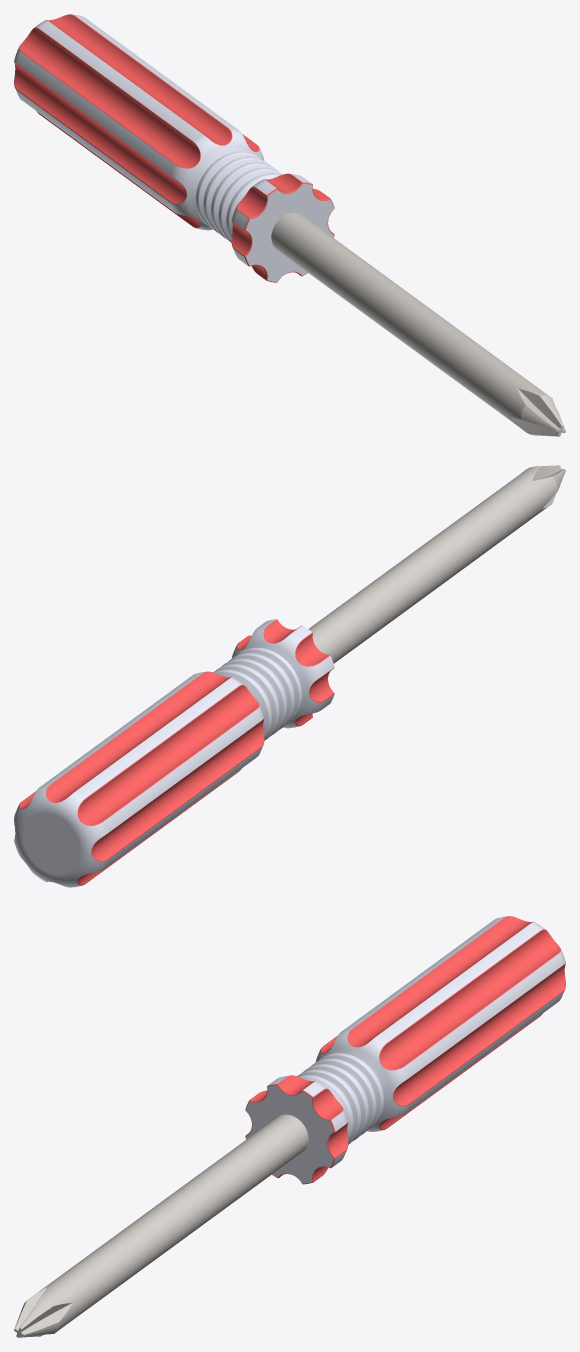
Rendered from screwdriver_phillips.dae.
3 renders of one model, top to bottom at view 1: azimuth 30°, elevation 25°; view 2: azimuth 150°, elevation 25°; view 3: azimuth 330°, elevation 25°, orthographic.
Visible parts, largest first — view 1: mesh_2_Part29-1-solid1, mesh_1_screwdriver_p, mesh_3_Part29-1-solid1_face; view 2: mesh_1_screwdriver_p, mesh_2_Part29-1-solid1, mesh_3_Part29-1-solid1_face; view 3: mesh_2_Part29-1-solid1, mesh_1_screwdriver_p, mesh_3_Part29-1-solid1_face.
Boxes of the visible parts, x1,y1,x2,y2 form: mesh_2_Part29-1-solid1: [14, 14, 334, 282]; mesh_1_screwdriver_p: [14, 14, 334, 281]; mesh_3_Part29-1-solid1_face: [271, 212, 565, 436]; mesh_1_screwdriver_p: [14, 619, 334, 887]; mesh_2_Part29-1-solid1: [19, 619, 334, 885]; mesh_3_Part29-1-solid1_face: [308, 465, 565, 663]; mesh_2_Part29-1-solid1: [245, 916, 565, 1184]; mesh_1_screwdriver_p: [245, 916, 565, 1183]; mesh_3_Part29-1-solid1_face: [14, 1114, 308, 1337].
Bounding box in the file's own units: 0.0481 × 0.47 × 0.0481.
